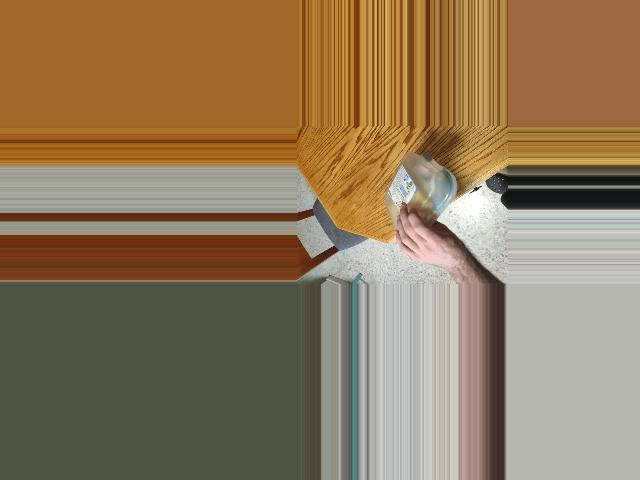cheese: (380, 150, 455, 244)
